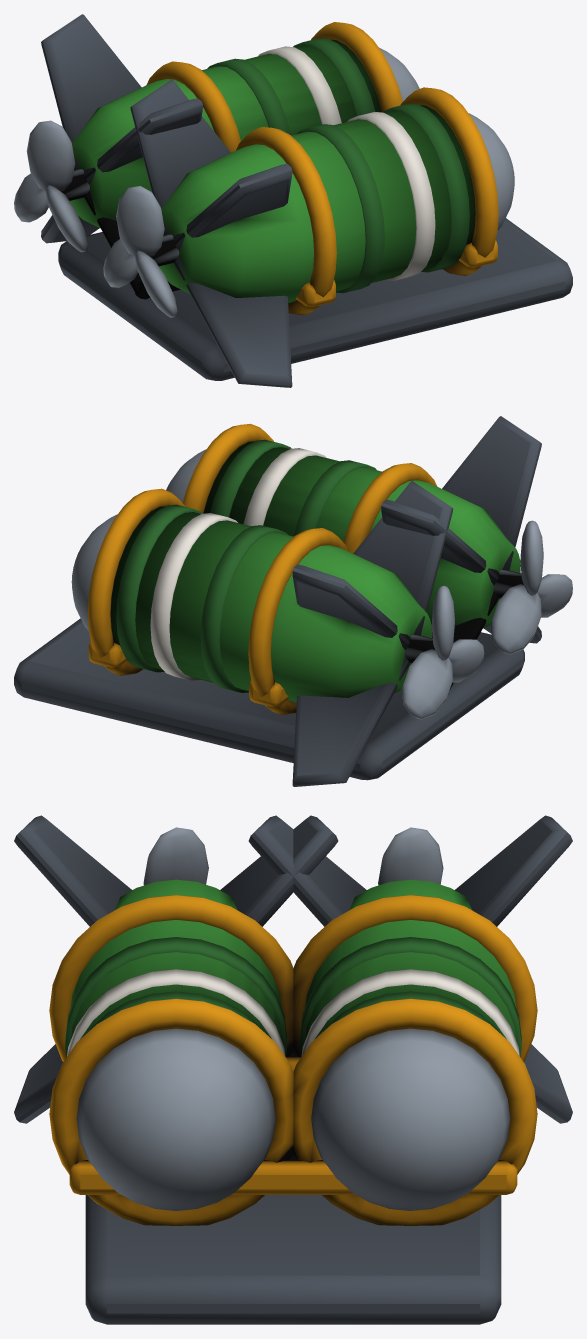
File: part_torpedo.glb
3 views of the same model, one above another, from view 1: azimuth 30°, elevation 25°; view 2: azimuth 150°, elevation 25°; view 3: azimuth 270°, elevation 25° (orthographic). The views are drawn at different scales.
Parts seen in each view (by area): view 1: torpedo_rack; view 2: torpedo_rack; view 3: torpedo_rack.
Part boxes in pixels (box(x1,y1,x2,y2)): torpedo_rack: box(14, 14, 572, 387); torpedo_rack: box(14, 416, 572, 786); torpedo_rack: box(14, 815, 572, 1324).
Bounding box in the file's own units: 1.19 × 0.6243 × 1.05.
